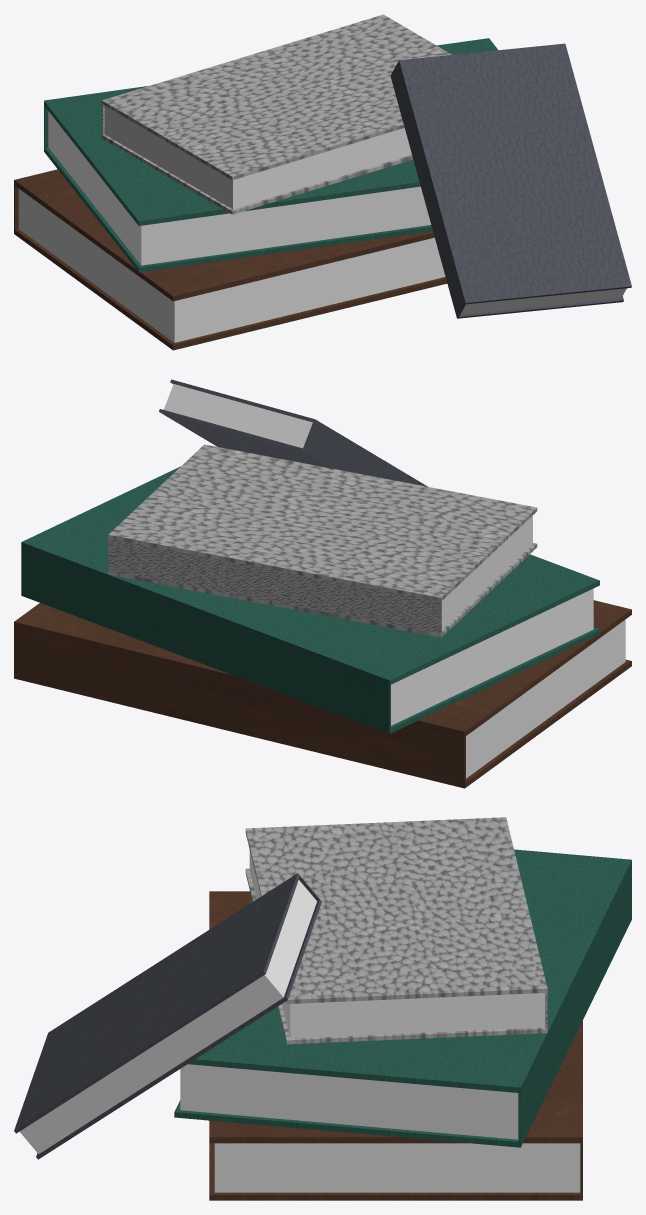
File: Libros2.fbx
The picture shows the model from 3 angles, top to bottom: view 1: azimuth 30°, elevation 25°; view 2: azimuth 150°, elevation 25°; view 3: azimuth 270°, elevation 25°; orthographic projection. The views are drawn at different scales.
Parts seen in each view (by area): view 1: Libro.003, Libro.002, Libro, Libro.001; view 2: Libro.002, Libro.001, Libro, Libro.003; view 3: Libro.002, Libro.001, Libro.003, Libro.
Boxes of the visible parts, bbox=[...] form: Libro.003: bbox=[390, 43, 631, 318]; Libro.002: bbox=[101, 14, 451, 214]; Libro: bbox=[14, 169, 447, 350]; Libro.001: bbox=[44, 38, 498, 272]; Libro.002: bbox=[108, 444, 537, 637]; Libro.001: bbox=[21, 466, 599, 733]; Libro: bbox=[14, 600, 631, 788]; Libro.003: bbox=[159, 379, 427, 486]; Libro.002: bbox=[245, 817, 547, 1044]; Libro.001: bbox=[174, 849, 631, 1147]; Libro.003: bbox=[14, 873, 321, 1159]; Libro: bbox=[209, 891, 582, 1200].
Size of the model in its own units: 214 by 89.97 by 216.
8 materials, 4 textured.
